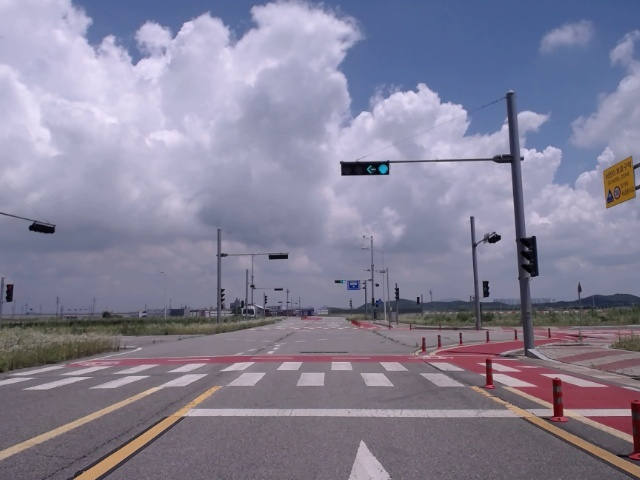all_green_4: (338, 161, 391, 177)
